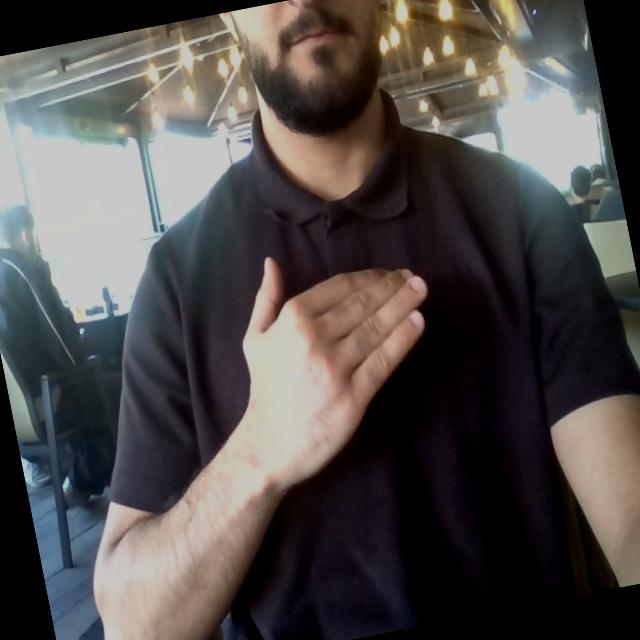Hand: (242, 259, 426, 487)
